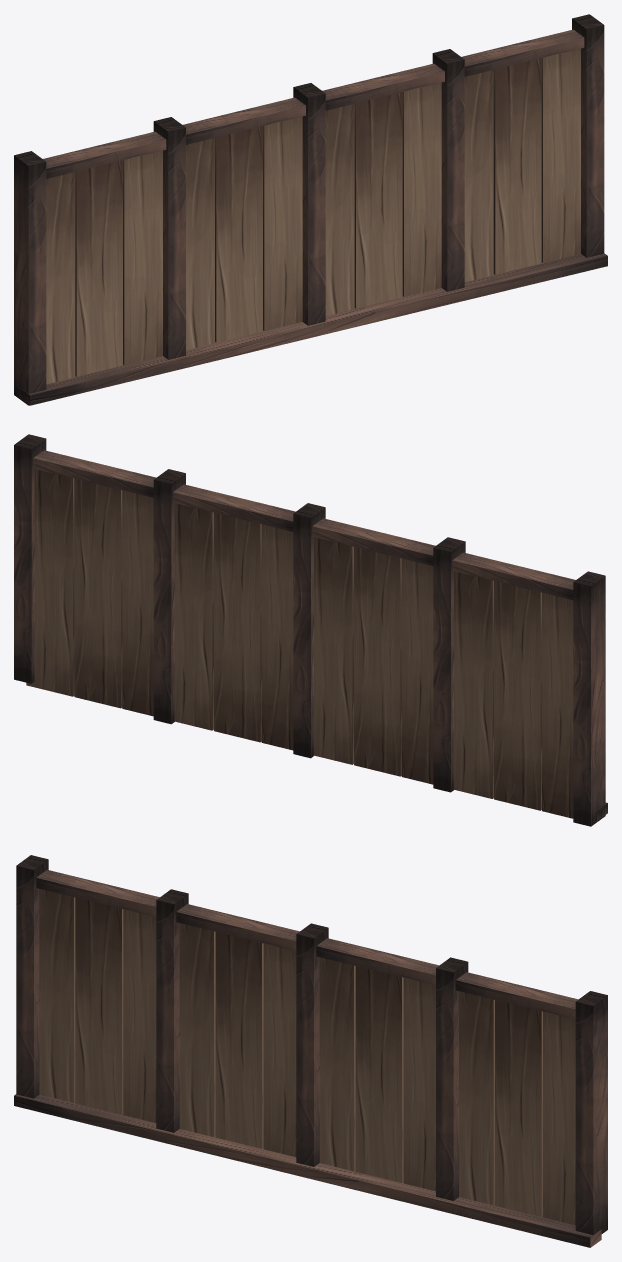
Rendered from Floor_Wall.fbx.
3 renders of one model, top to bottom at view 1: azimuth 30°, elevation 25°; view 2: azimuth 150°, elevation 25°; view 3: azimuth 330°, elevation 25°, orthographic.
Parts seen in each view (by area): view 1: Wood_Wall; view 2: Wood_Wall; view 3: Wood_Wall.
Boxes of the visible parts, left/top/right/bottom form: Wood_Wall: left=14, top=14, right=607, bottom=405; Wood_Wall: left=14, top=434, right=607, bottom=826; Wood_Wall: left=14, top=855, right=607, bottom=1247.
Bounding box in the file's own units: 0.6011 × 0.2395 × 0.0324.
